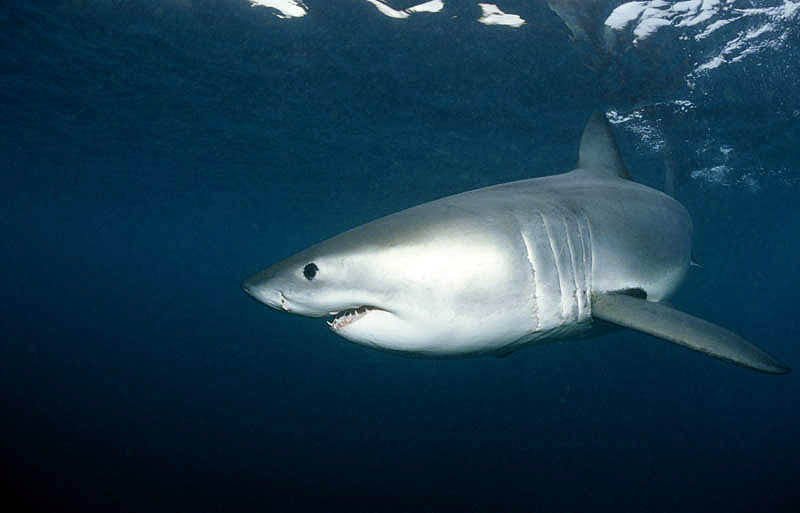Carcharodon_carcharias: (233, 104, 782, 389)
